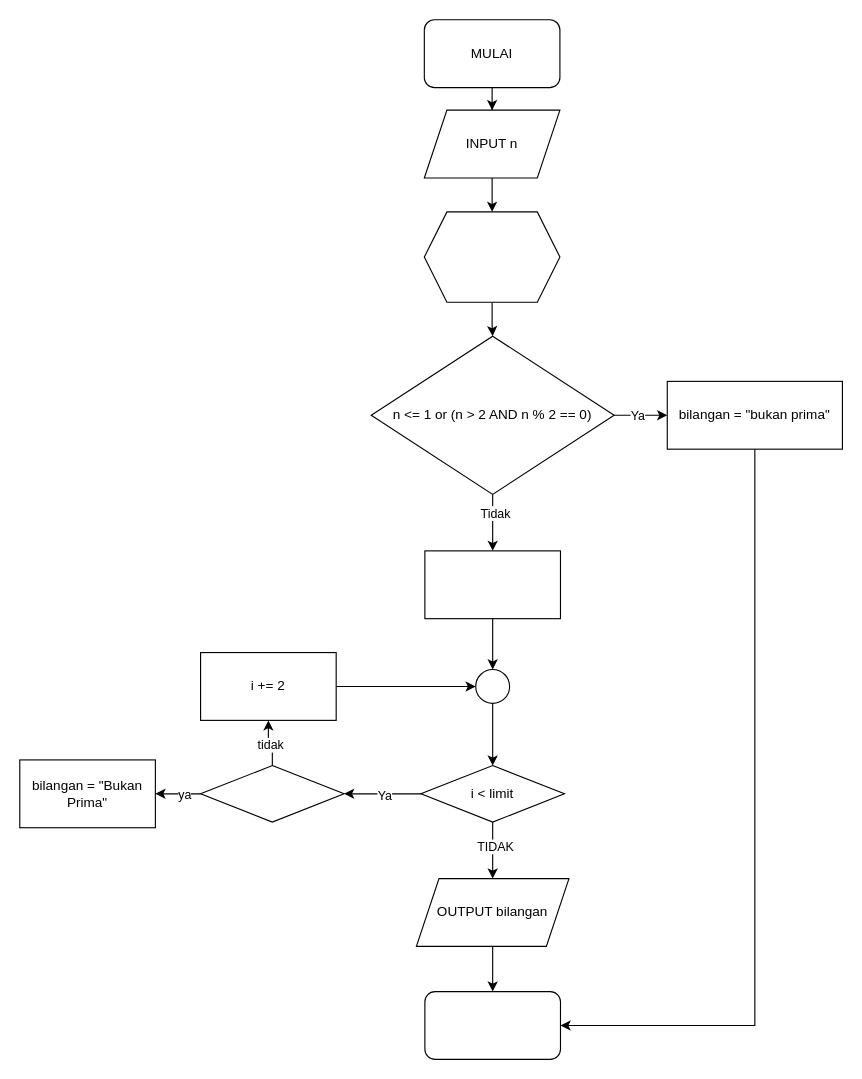
Some shapes in this 862 by 1079 pixel diagram are drawn without their labels. The shapes that lost their labels are listed below. From the top down, each one's centre as x and y in pixels, then its label:
point 491,256: bilangan = "prima"
point 492,584: i = 3 limit = int(n ** 0.5) + 1
point 271,793: n % i == 0
point 492,1024: SELESAI
